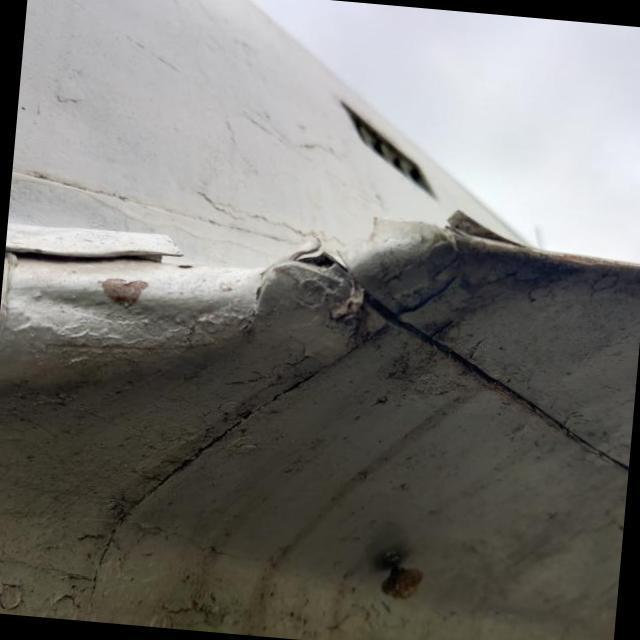Rupture: (413, 187, 545, 277), (280, 218, 365, 294)
